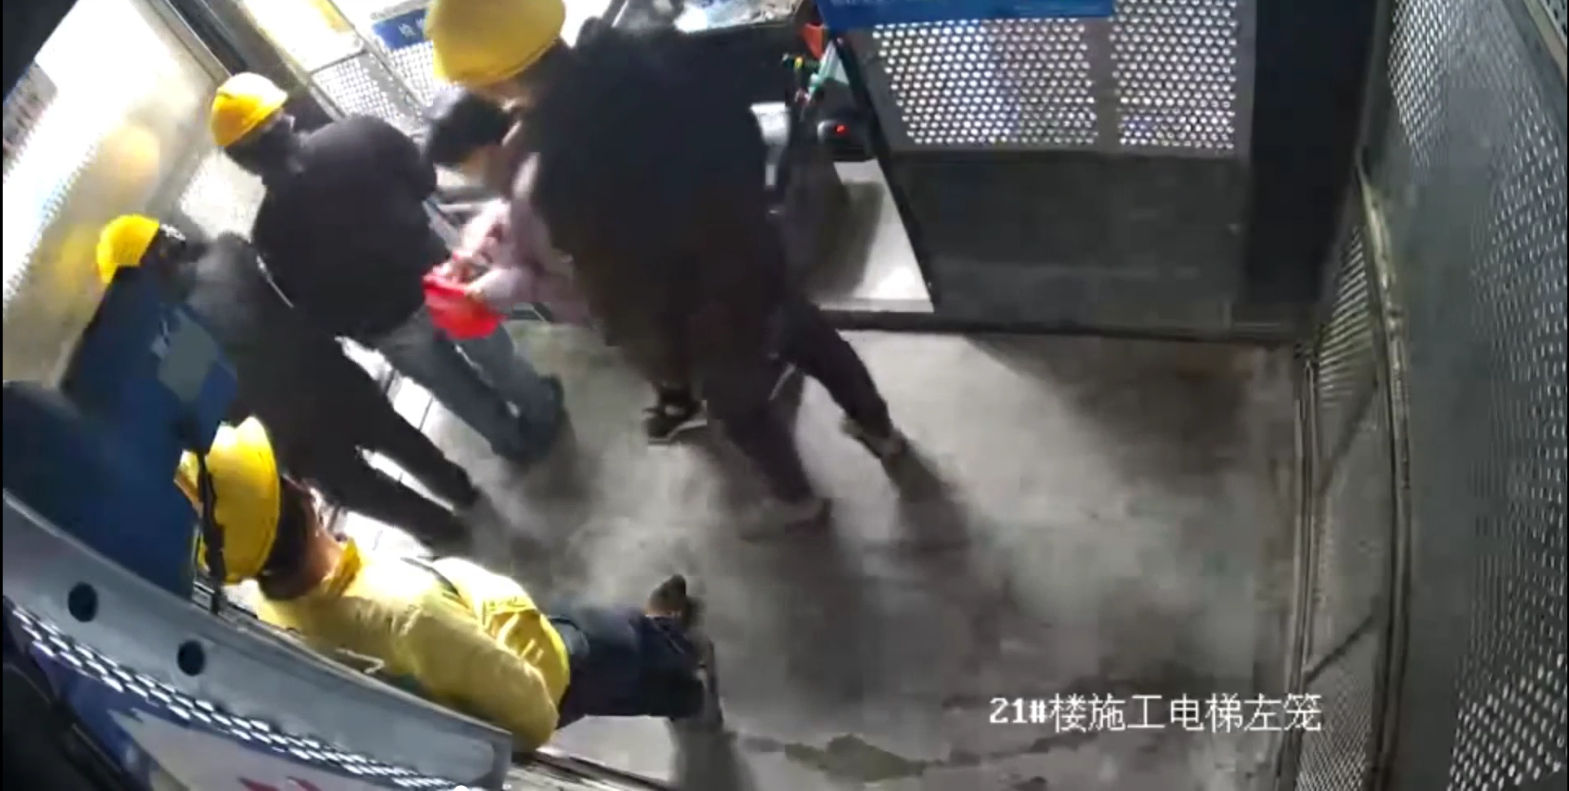person: (425, 4, 919, 536), (151, 418, 727, 734), (202, 70, 568, 461), (91, 214, 484, 557), (422, 92, 802, 440)
